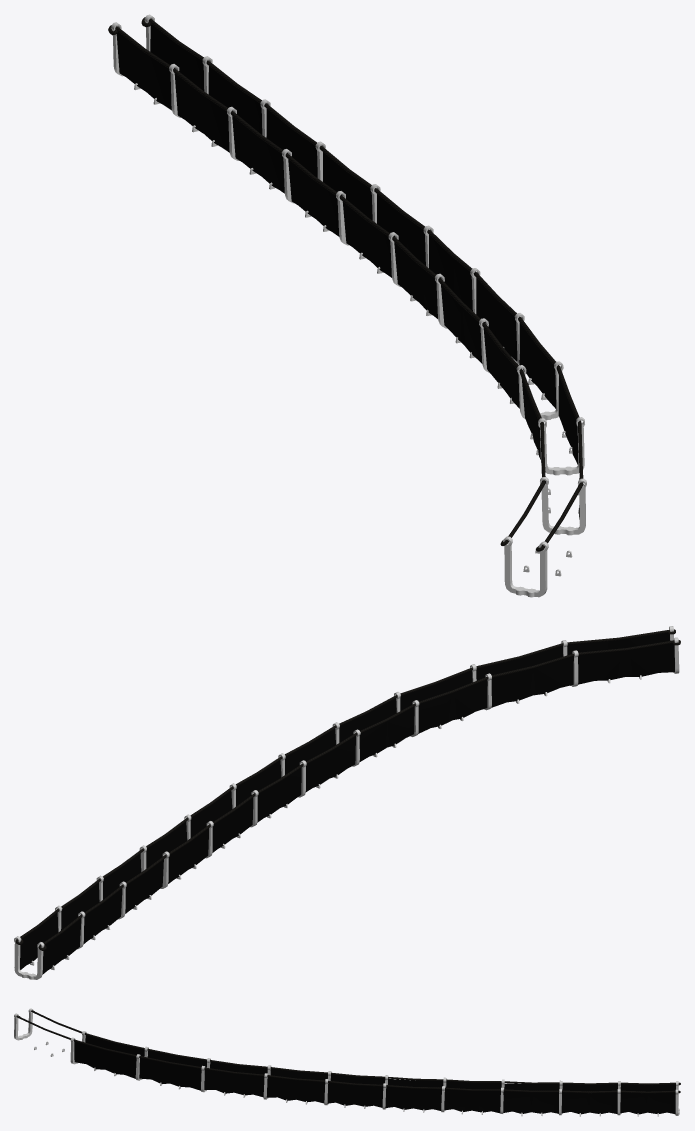
File: SideRailsFrontLeft.fbx
3 renders of one model, top to bottom at view 1: azimuth 30°, elevation 25°; view 2: azimuth 150°, elevation 25°; view 3: azimuth 270°, elevation 25°, orthographic. The views are drawn at different scales.
Parts seen in each view (by area): view 1: SideRailsFrontLeft; view 2: SideRailsFrontLeft; view 3: SideRailsFrontLeft.
Part boxes in pixels (<box>): SideRailsFrontLeft: <box>108,14,586,597</box>; SideRailsFrontLeft: <box>14,626,680,979</box>; SideRailsFrontLeft: <box>14,1008,680,1116</box>.
Size of the model in its own units: 345 by 83.34 by 1338.
